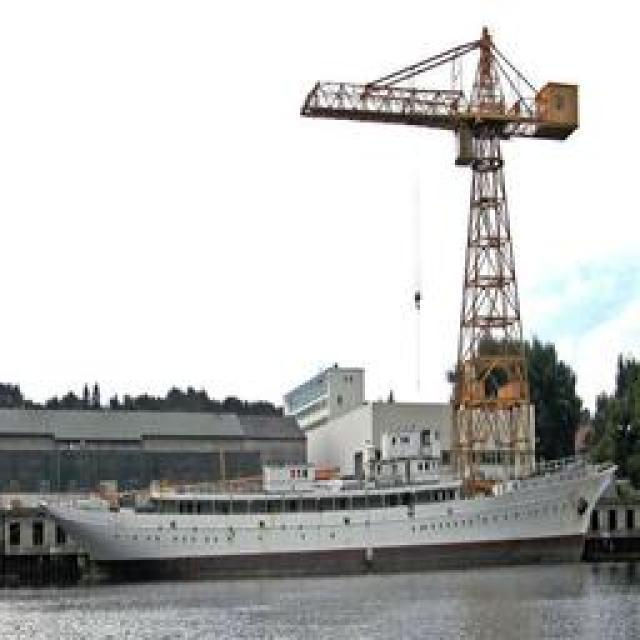ship2: (49, 424, 616, 583)
